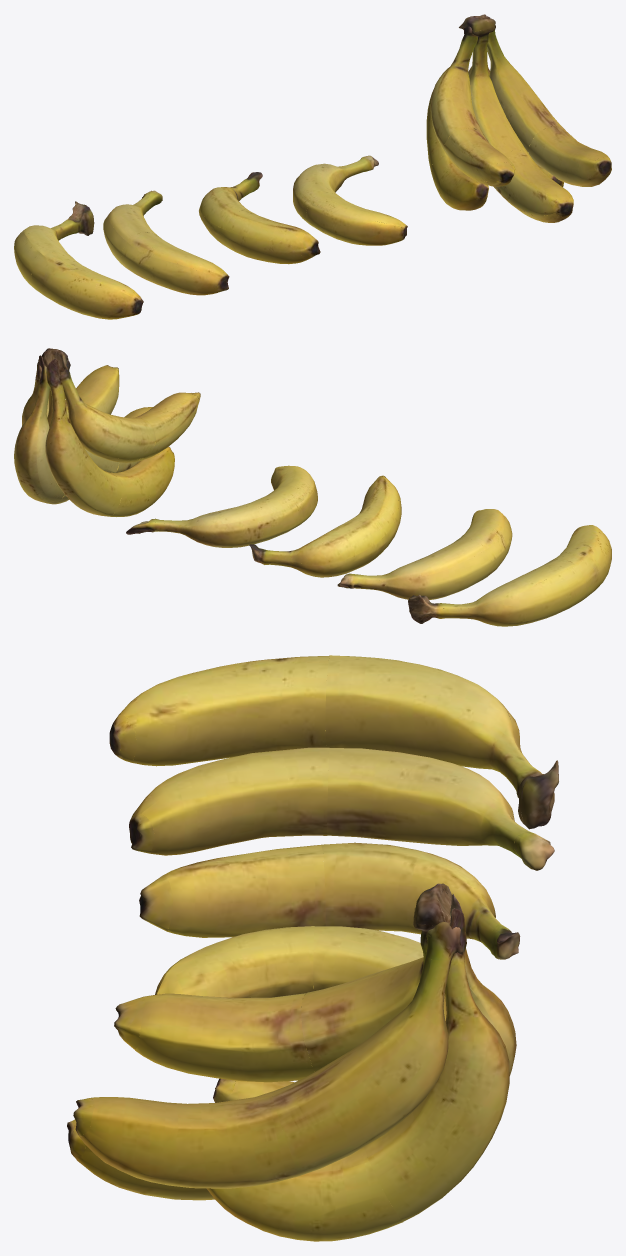
The model's file is ph_bananas.glb.
The picture shows the model from 3 angles, top to bottom: view 1: azimuth 30°, elevation 25°; view 2: azimuth 150°, elevation 25°; view 3: azimuth 270°, elevation 25°; orthographic projection. The views are drawn at different scales.
Visible parts, largest first — view 1: bananas_bunch; view 2: bananas_bunch; view 3: bananas_bunch.
Boxes of the visible parts, bbox=[...] form: bananas_bunch: bbox=[14, 14, 611, 319]; bananas_bunch: bbox=[14, 348, 611, 626]; bananas_bunch: bbox=[67, 655, 558, 1241].
Bounding box in the file's own units: 0.6001 × 0.1789 × 0.244.
1 material, 1 textured.
